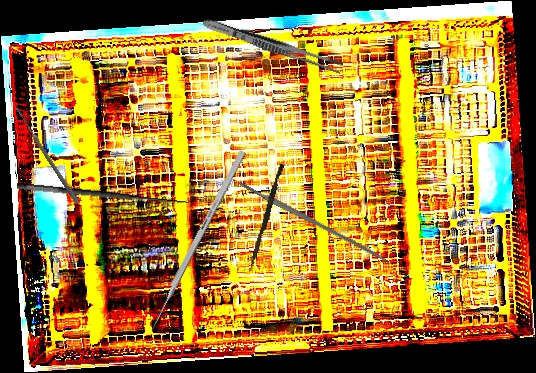Dressing Forceps: (200, 15, 345, 75)
Hook Surgical: (16, 168, 195, 211)
Pusher: (145, 149, 247, 337), (248, 162, 285, 273)
Scalpel Handle: (237, 178, 390, 265)
Surgical Spoon: (13, 104, 80, 205)
